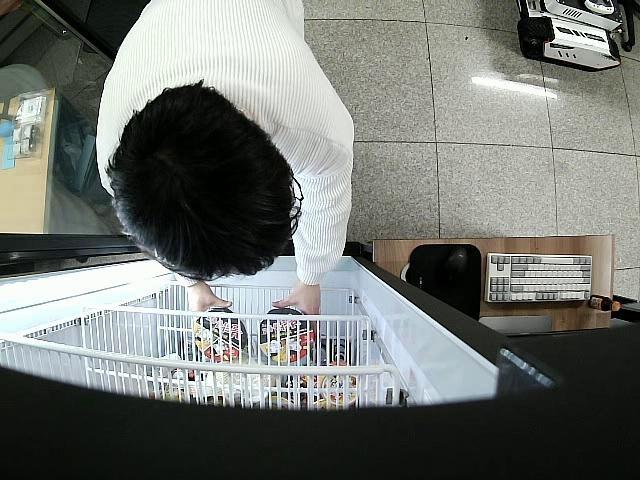07_buldak_L: (258, 308, 314, 362), (193, 307, 248, 361)
